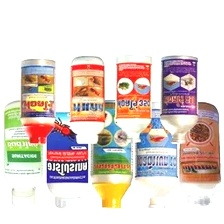insecticide: (87, 97, 136, 211), (131, 100, 182, 209), (42, 99, 91, 212), (0, 97, 45, 208), (176, 100, 221, 210), (157, 52, 200, 146), (112, 52, 153, 144), (17, 57, 58, 145), (67, 55, 105, 145)
